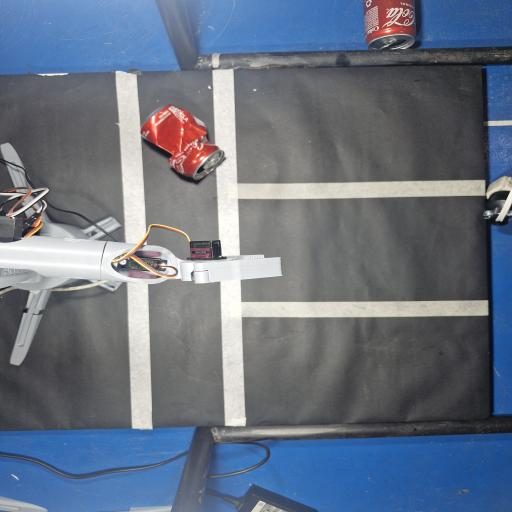lata_defectuoso: (141, 104, 223, 180)
